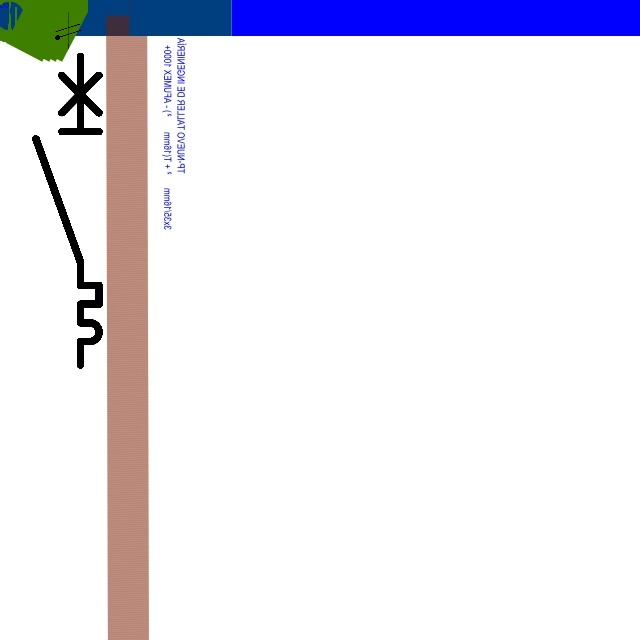interruptor_termomagnetico: (28, 48, 107, 372)
